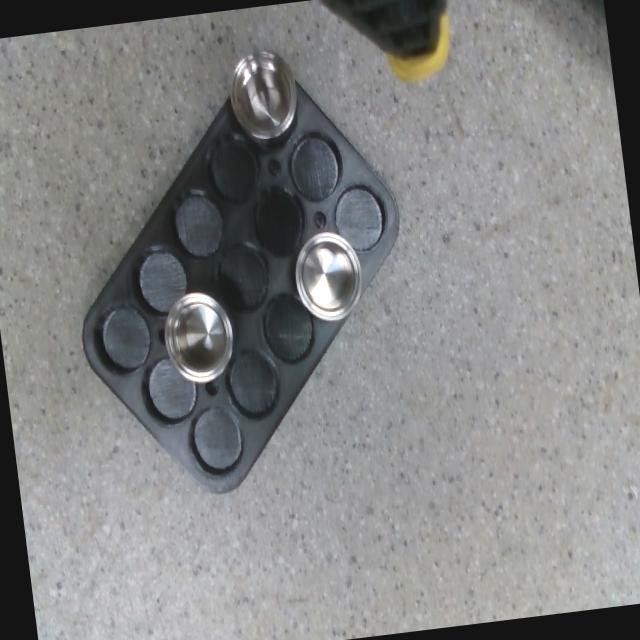sensor: (158, 287, 236, 385), (225, 46, 301, 142), (289, 228, 365, 324)
